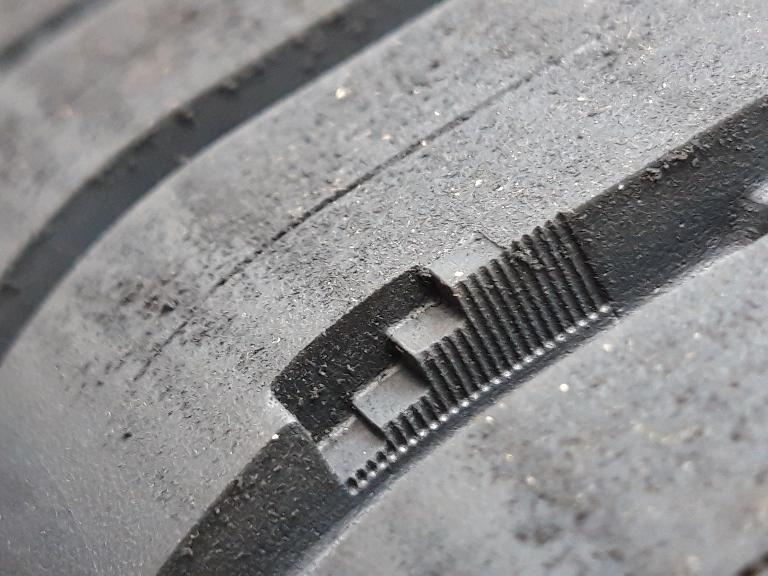temoin:75: (254, 222, 548, 512)
